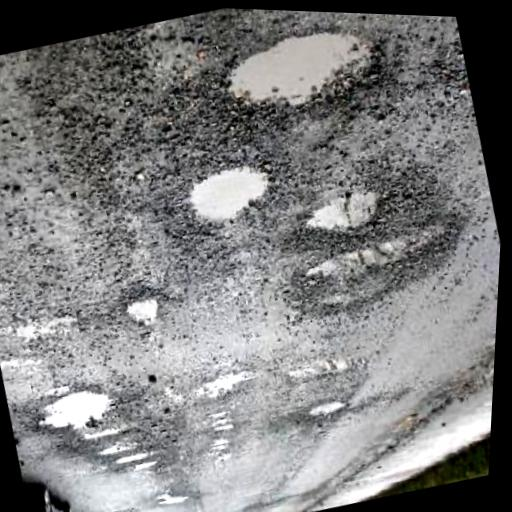pothole: (212, 14, 398, 139), (284, 217, 469, 326), (179, 153, 289, 242), (294, 178, 407, 256), (30, 382, 122, 445), (122, 293, 169, 333), (307, 397, 353, 423), (154, 488, 193, 512), (114, 451, 153, 473), (98, 444, 138, 462)
